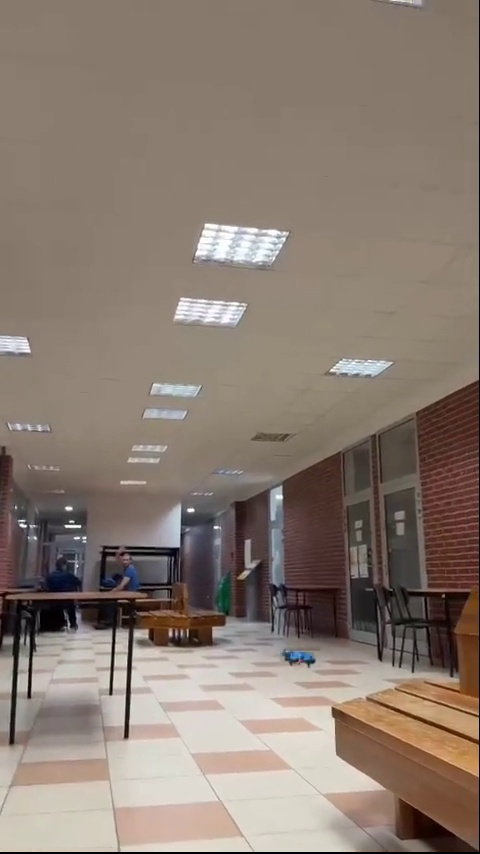drone: (283, 649, 318, 668)
no vest: (103, 551, 142, 592), (45, 556, 83, 592)
